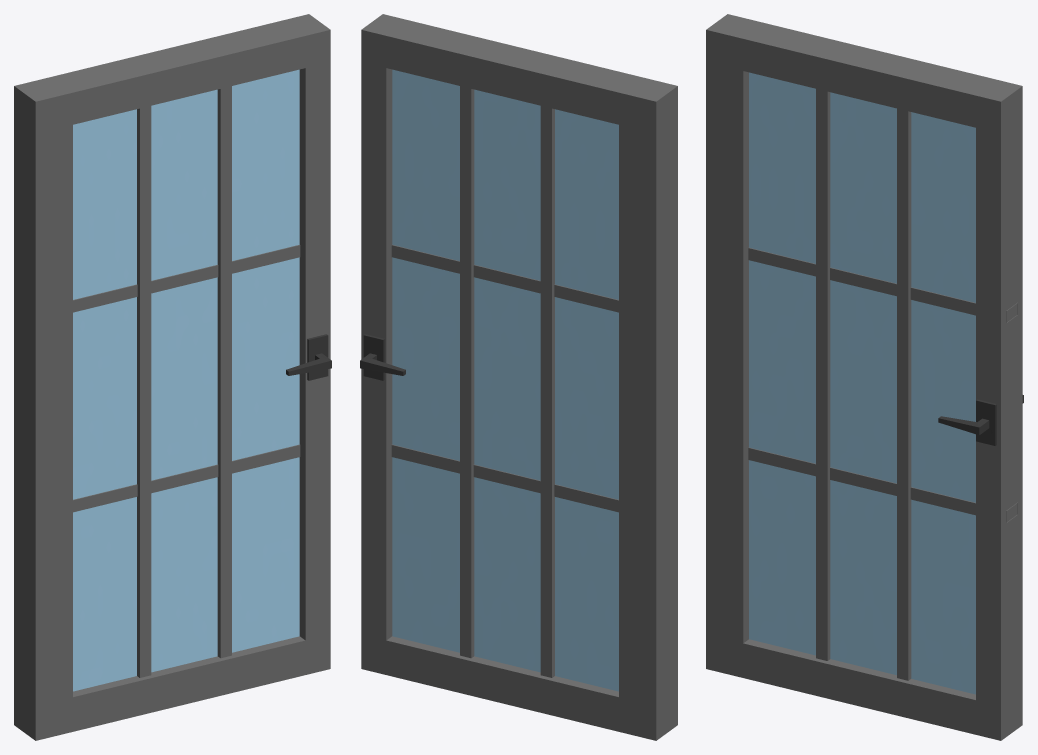
File: door_011.fbx
3 renders of one model, left to right at view 1: azimuth 30°, elevation 25°; view 2: azimuth 150°, elevation 25°; view 3: azimuth 330°, elevation 25°, orthographic.
Visible parts, largest first — view 1: door_011; view 2: door_011; view 3: door_011.
Part boxes in pixels (box(x1,y1,x2,y2)): door_011: box(14, 14, 331, 740); door_011: box(360, 14, 677, 740); door_011: box(706, 14, 1023, 740).
Size of the model in its own units: 110 by 28.59 by 227.
